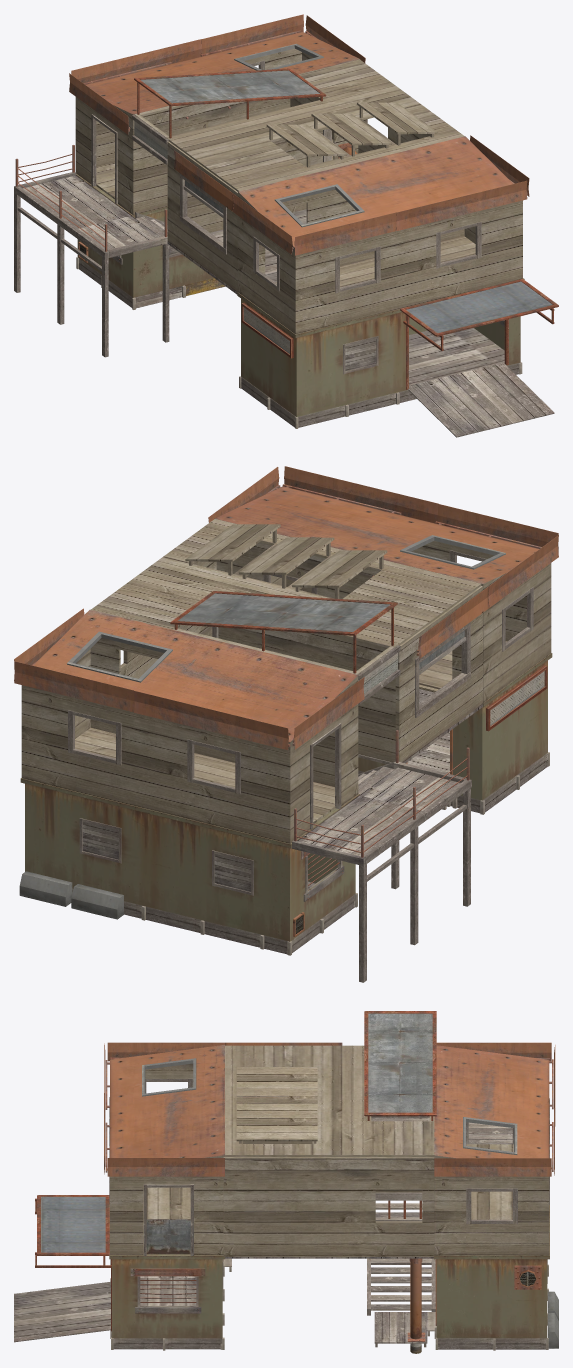
The model's file is shanty_mansion.glb.
3 renders of one model, top to bottom at view 1: azimuth 30°, elevation 25°; view 2: azimuth 150°, elevation 25°; view 3: azimuth 270°, elevation 25°, orthographic. The views are drawn at different scales.
Visible parts, largest first — view 1: shanty_mansion_5, shanty_mansion_3, shanty_mansion_4, shanty_mansion_2, shanty_mansion_1, shanty_mansion_0; view 2: shanty_mansion_2, shanty_mansion_3, shanty_mansion_0, shanty_mansion_5, shanty_mansion_1, shanty_mansion_4; view 3: shanty_mansion_3, shanty_mansion_5, shanty_mansion_2, shanty_mansion_4, shanty_mansion_0, shanty_mansion_1.
Boxes of the visible parts, x1,y1,x2,y2 form: shanty_mansion_5: [233, 135, 529, 334]; shanty_mansion_3: [132, 59, 464, 294]; shanty_mansion_4: [237, 278, 558, 437]; shanty_mansion_2: [69, 14, 365, 215]; shanty_mansion_1: [14, 142, 357, 357]; shanty_mansion_0: [76, 174, 225, 309]; shanty_mansion_2: [14, 608, 364, 843]; shanty_mansion_3: [91, 519, 489, 764]; shanty_mansion_0: [20, 778, 359, 955]; shanty_mansion_5: [208, 466, 558, 702]; shanty_mansion_1: [19, 730, 471, 982]; shanty_mansion_4: [358, 653, 552, 814]; shanty_mansion_3: [223, 1011, 436, 1258]; shanty_mansion_5: [104, 1042, 224, 1255]; shanty_mansion_2: [434, 1042, 555, 1255]; shanty_mansion_4: [14, 1195, 231, 1350]; shanty_mansion_0: [427, 1205, 549, 1350]; shanty_mansion_1: [367, 1116, 558, 1353].
Size of the model in its own units: 9.82 by 7.61 by 15.8.
6 materials, 6 textured.
